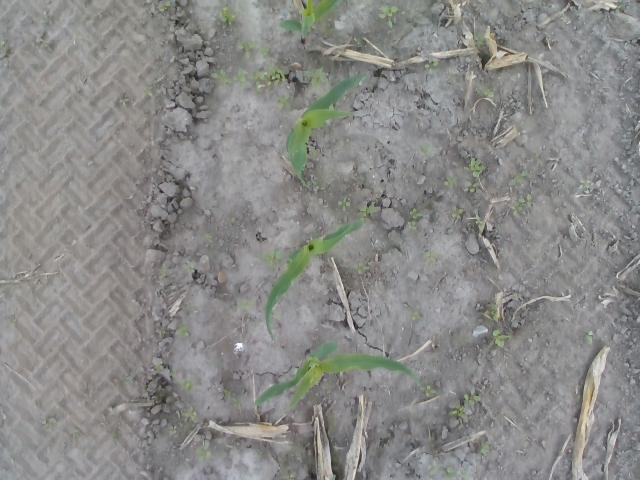Maize: (253, 335, 422, 414), (262, 216, 367, 340), (286, 68, 368, 187), (278, 0, 345, 48)
Weeds: (208, 66, 288, 96), (424, 459, 473, 480), (447, 391, 481, 420), (256, 245, 283, 273), (302, 65, 330, 91), (461, 154, 486, 176), (378, 4, 399, 30), (238, 38, 258, 60), (236, 296, 258, 314), (217, 5, 236, 25), (492, 329, 511, 349), (507, 168, 527, 186), (222, 389, 240, 409), (406, 207, 422, 229), (417, 140, 434, 160), (276, 92, 294, 110), (178, 407, 198, 422), (176, 324, 193, 341), (472, 86, 497, 97), (157, 0, 177, 13), (578, 178, 594, 194), (176, 379, 193, 394), (474, 30, 488, 48), (478, 440, 492, 458), (517, 192, 532, 208), (423, 248, 438, 264), (337, 196, 352, 212), (424, 58, 440, 72), (462, 180, 478, 194), (488, 301, 498, 322), (451, 204, 464, 220), (361, 205, 378, 217), (582, 330, 594, 347), (447, 174, 458, 192), (420, 384, 434, 398), (196, 447, 211, 460), (409, 309, 422, 322), (352, 264, 372, 272), (142, 85, 154, 98), (0, 36, 8, 50), (260, 46, 270, 56), (474, 214, 484, 224), (168, 424, 178, 434), (119, 98, 130, 107), (203, 232, 214, 241), (282, 472, 294, 480), (185, 264, 195, 272), (40, 42, 49, 48)
